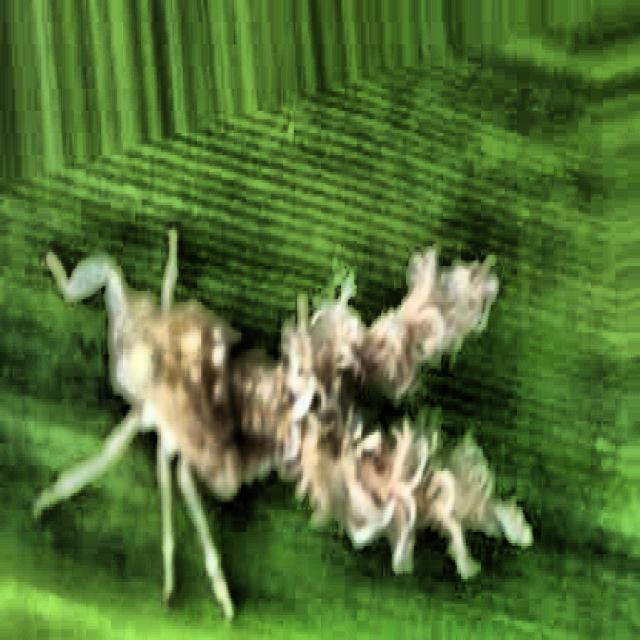Pyrilla-perpusilla: (53, 141, 538, 605)
